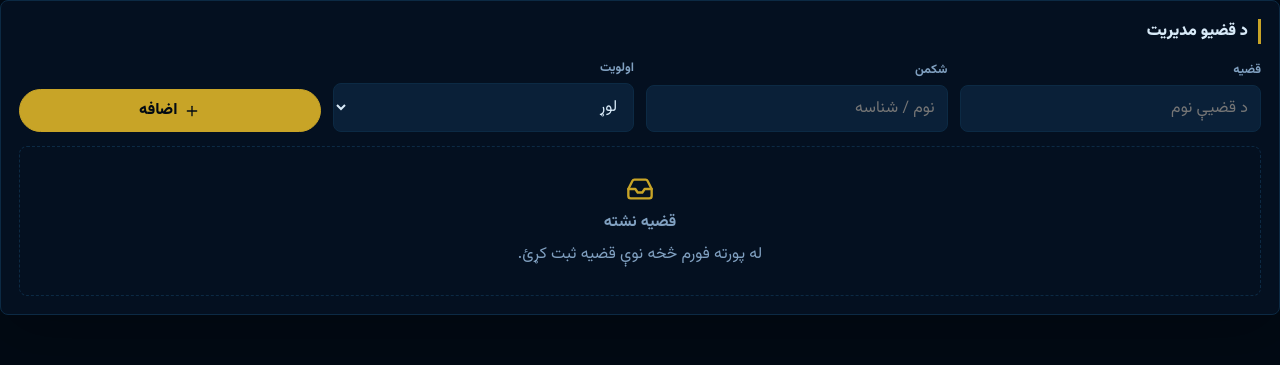
it: Cases page form › validates required title before submit
This screenshot has width=1280, height=365.
Step 1. Click the button "اضافه" → click(170, 110), box [19, 89, 320, 132]
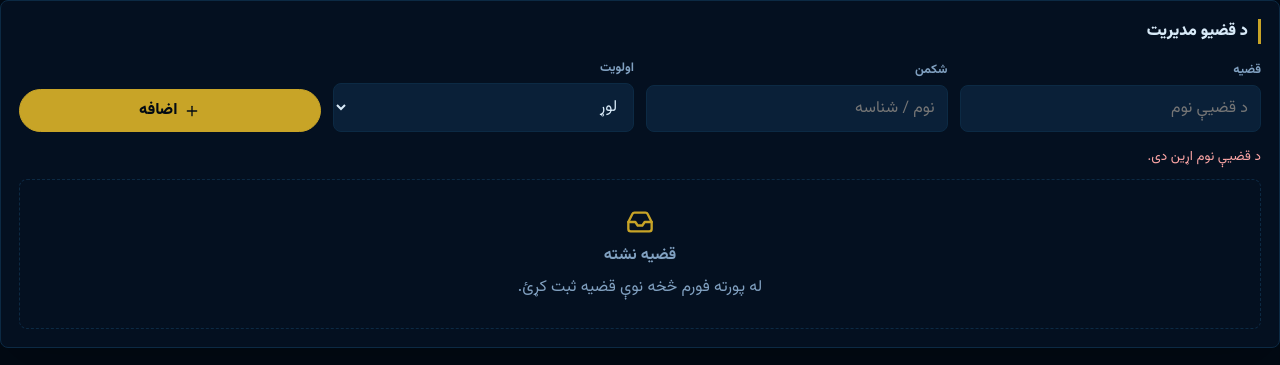
Check: the text "د قضیې نوم اړین دی." is shown, box [1148, 146, 1261, 167]
